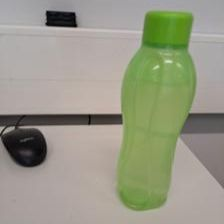bottle: (112, 9, 200, 217)
